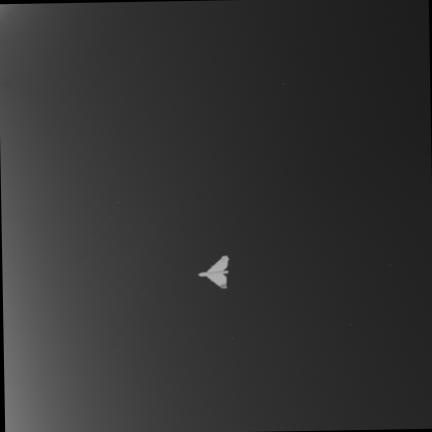Shahed: (197, 256, 228, 288)
